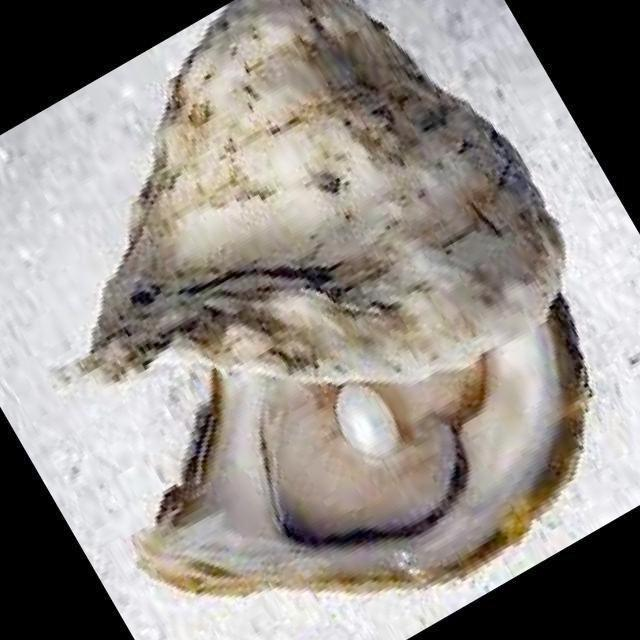Oyster-Closed: (80, 0, 566, 383)
Oyster-Open: (138, 295, 588, 597)
